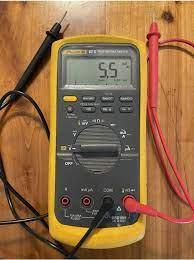multimeter: (2, 11, 193, 260)
